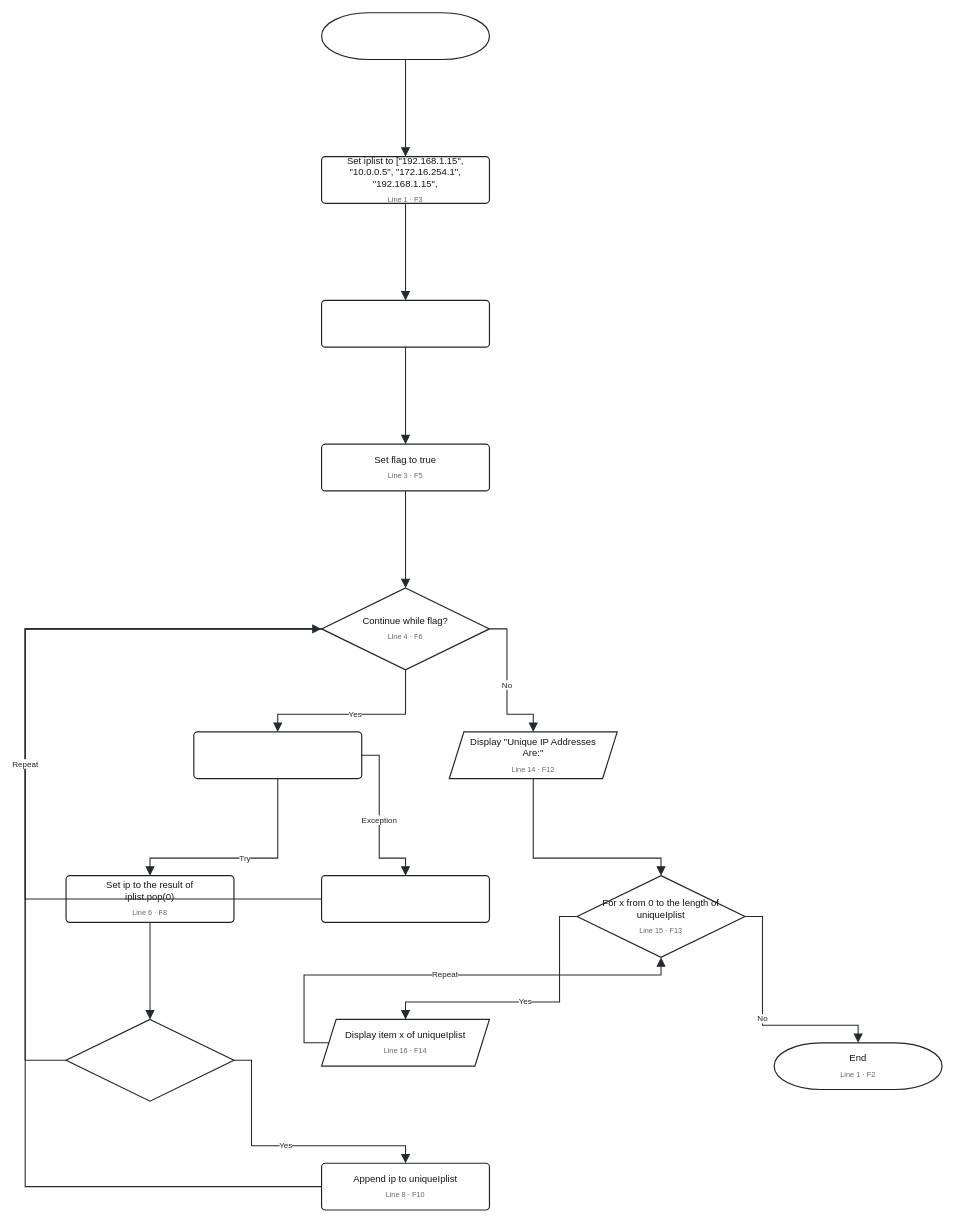
This 956x1223 diagram has some shape labels left out. Each missing label, with the centre of its shape:
"Attempt the following operations Line 5 · F7" belongs at point (277, 755).
"Ip is not contained in uniqueIplist? Line 7 · F9" belongs at point (149, 1059).
"Set flag to false Line 11 · F11" belongs at point (405, 899).
"Set uniqueIplist to an empty list Line 2 · F4" belongs at point (405, 323).
"Start Line 1 · F1" belongs at point (405, 36).
